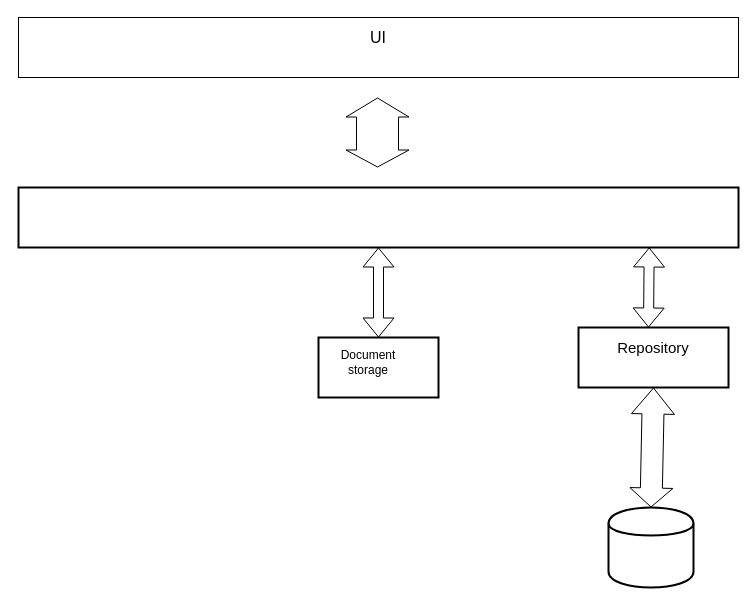
This 756x606 diagram has some shape labels left out. Each missing label, with the centre of its shape:
"Database" belongs at point (650, 547).
"Service" belongs at point (378, 217).
